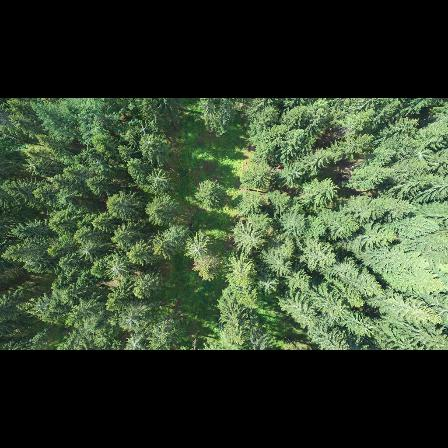Sick: (186, 235, 213, 262), (103, 256, 131, 282), (144, 169, 173, 192), (73, 238, 102, 261), (123, 328, 149, 350)
